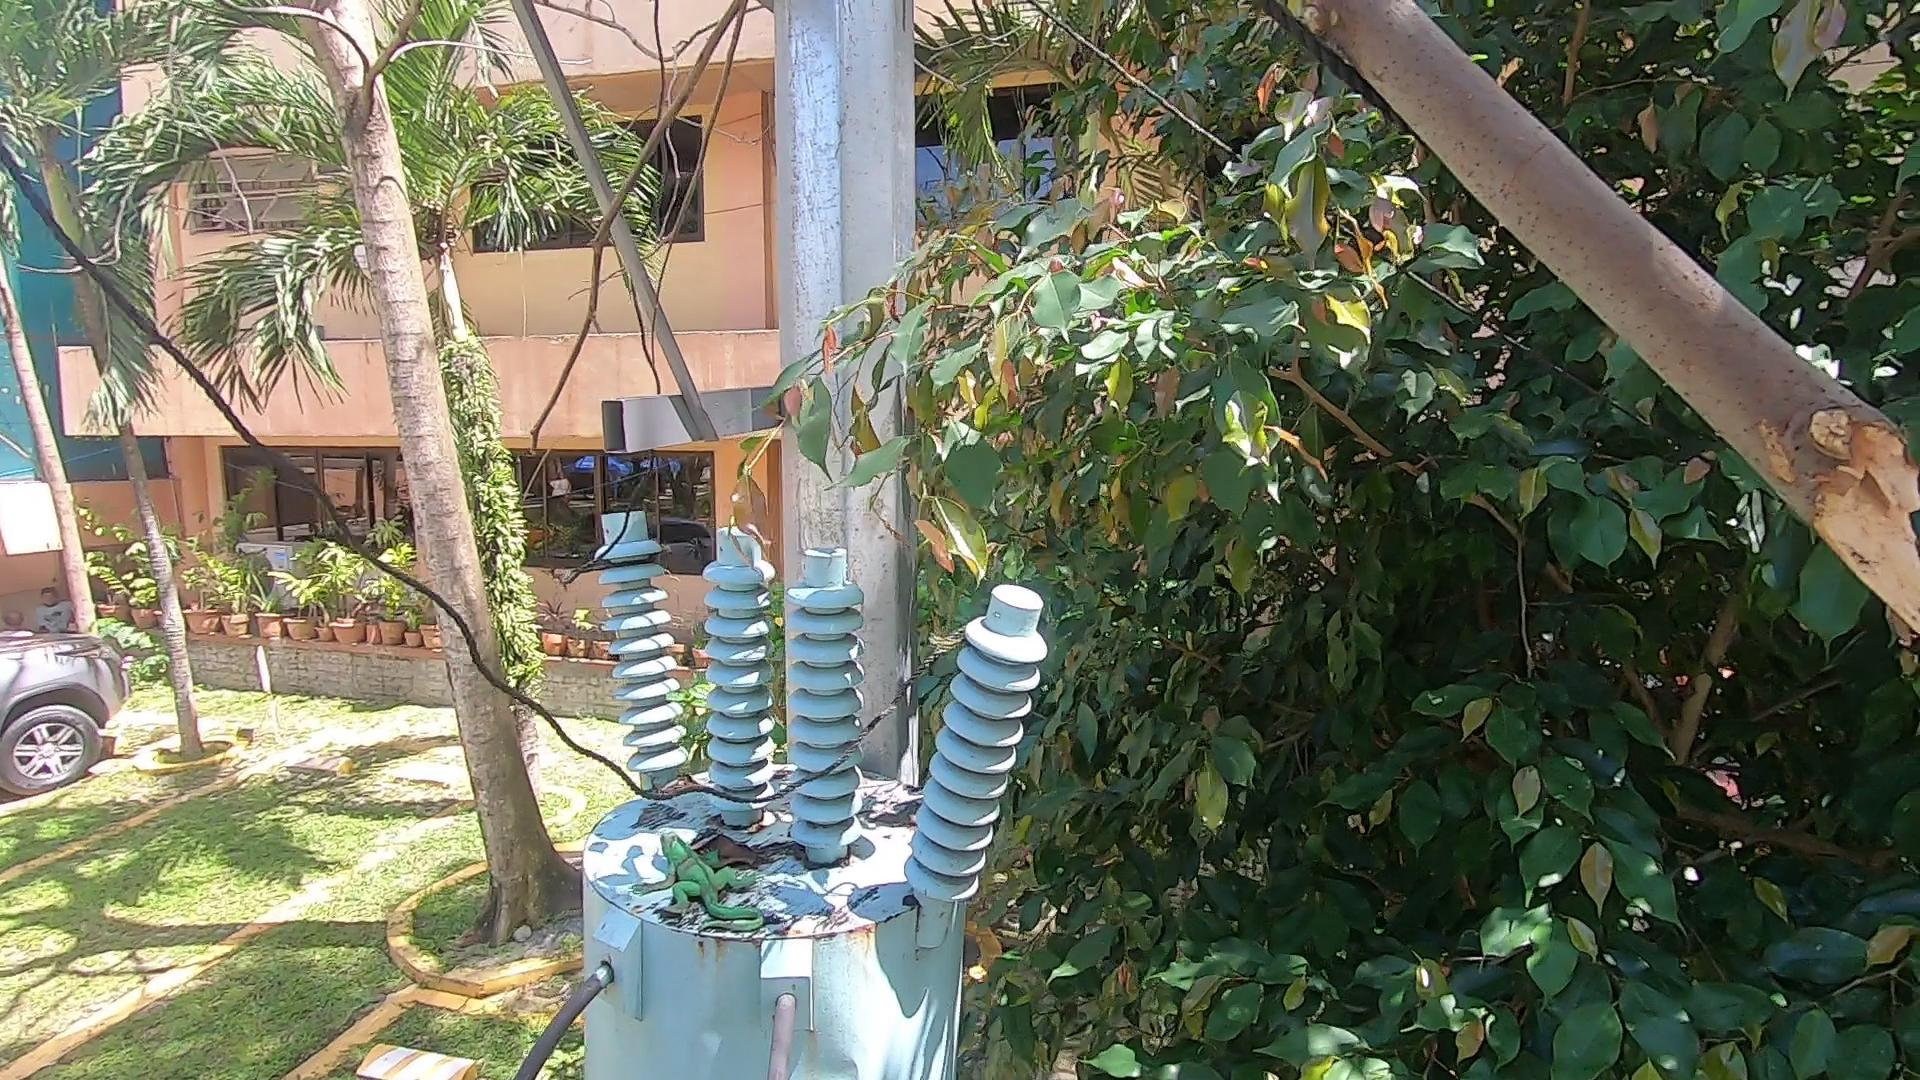branch with leaves: (683, 293, 1010, 568)
leaf: (680, 825, 803, 878), (649, 770, 731, 811), (864, 786, 920, 837)
tree branch: (1299, 18, 1920, 593)
